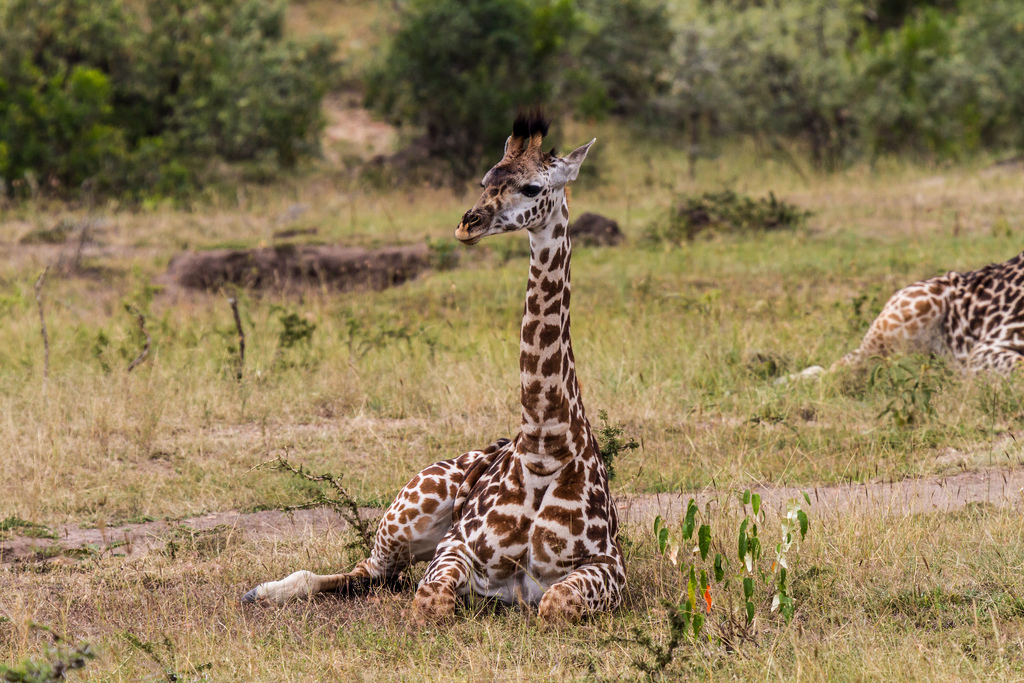giraffe: (367, 94, 659, 650)
